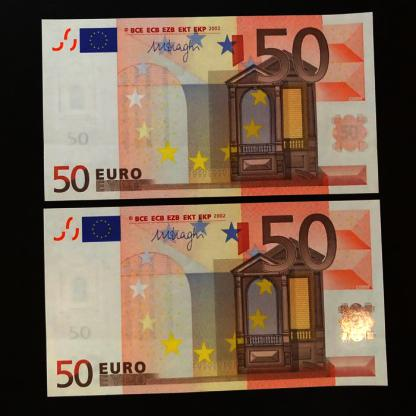euro_banknote: (46, 205, 385, 392), (44, 17, 378, 197)
